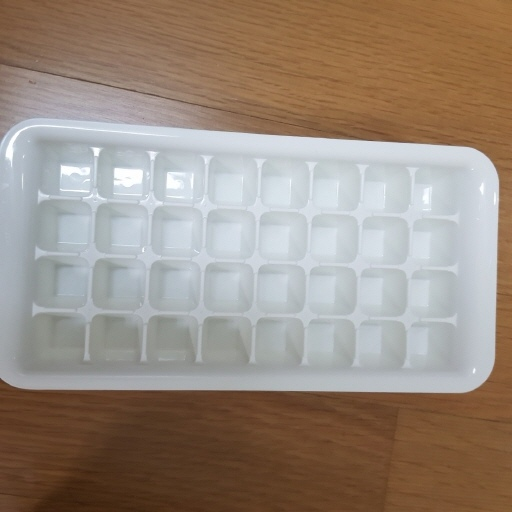Plastic_4: (1, 119, 499, 397)
